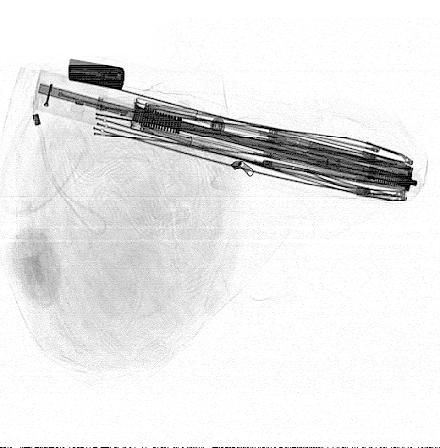Lighter: (68, 59, 125, 91)
